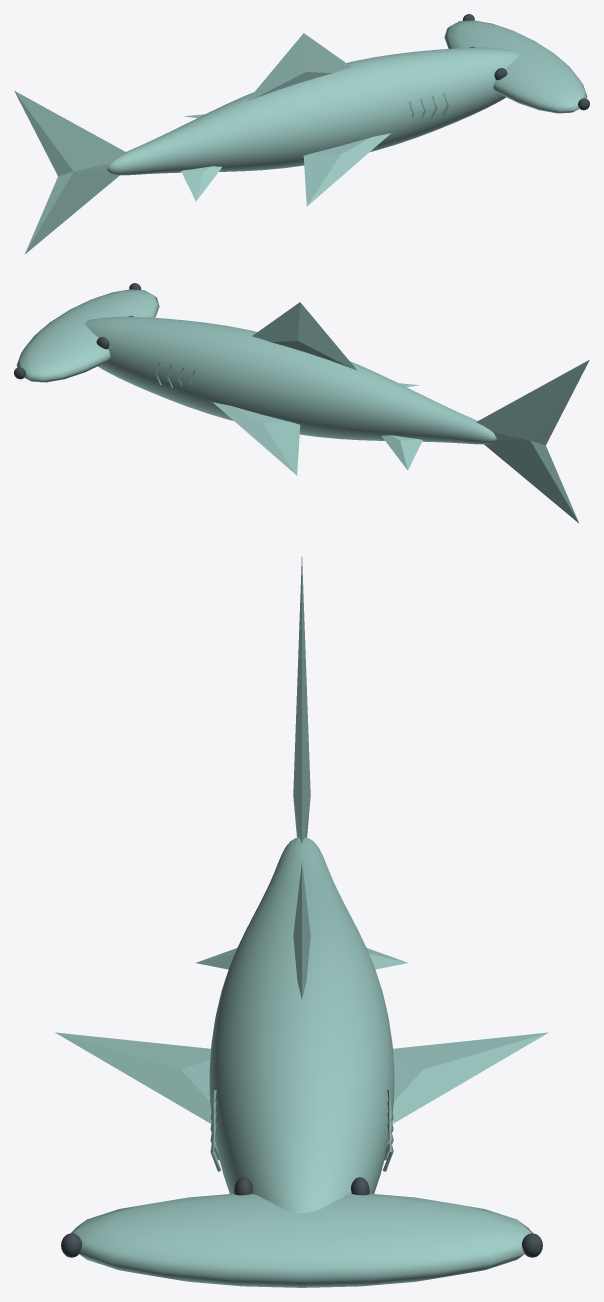
The picture shows the model from 3 angles, top to bottom: view 1: azimuth 30°, elevation 25°; view 2: azimuth 150°, elevation 25°; view 3: azimuth 270°, elevation 25°; orthographic projection. The views are drawn at different scales.
Visible parts, largest first — view 1: Body, Tail, Hammer head, Dorsal, Pectoral, Pelvic; view 2: Body, Tail, Hammer head, Dorsal, Pectoral.001, Pelvic.001; view 3: Body, Hammer head, Pectoral.001, Pectoral, Tail, Dorsal.
Part boxes in pixels (bbox=[...]): Body: bbox=[107, 47, 518, 175]; Tail: bbox=[14, 91, 127, 253]; Hammer head: bbox=[444, 20, 587, 113]; Dorsal: bbox=[247, 33, 351, 101]; Pectoral: bbox=[303, 133, 391, 206]; Pelvic: bbox=[181, 166, 221, 201]; Body: bbox=[85, 316, 496, 444]; Tail: bbox=[476, 360, 589, 522]; Hammer head: bbox=[16, 289, 159, 382]; Dorsal: bbox=[252, 302, 356, 370]; Pectoral.001: bbox=[212, 402, 300, 475]; Pelvic.001: bbox=[382, 435, 422, 470]; Body: bbox=[209, 837, 394, 1212]; Hammer head: bbox=[70, 1193, 533, 1287]; Pectoral.001: bbox=[392, 1032, 548, 1123]; Pectoral: bbox=[55, 1032, 211, 1123]; Tail: bbox=[293, 557, 310, 843]; Dorsal: bbox=[293, 863, 310, 999].
Bounding box in the file's own units: 258 × 76 × 102.
